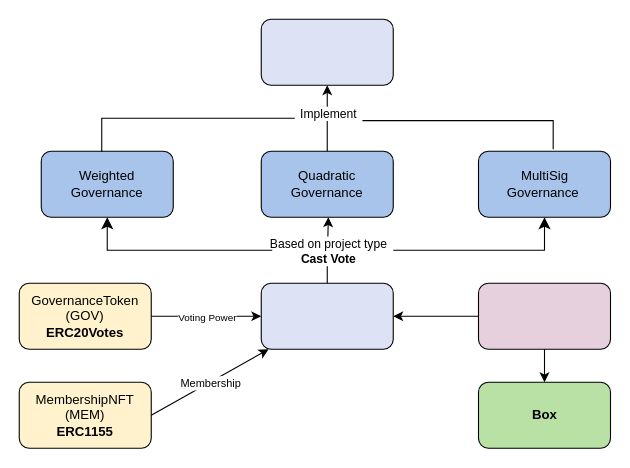
This 630x468 diagram has some shape labels left out. The centre of each missing label's shape, as x and y in pixels:
Organization Governance: point 326,315
TimeLock: point 543,315
Token Based Governance: point 326,51
